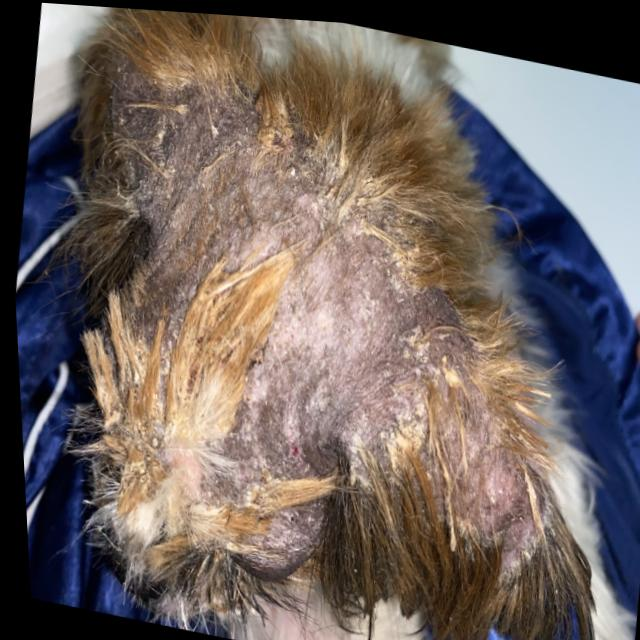demodicosis: (302, 211, 554, 579), (112, 259, 325, 555), (89, 70, 338, 273)
